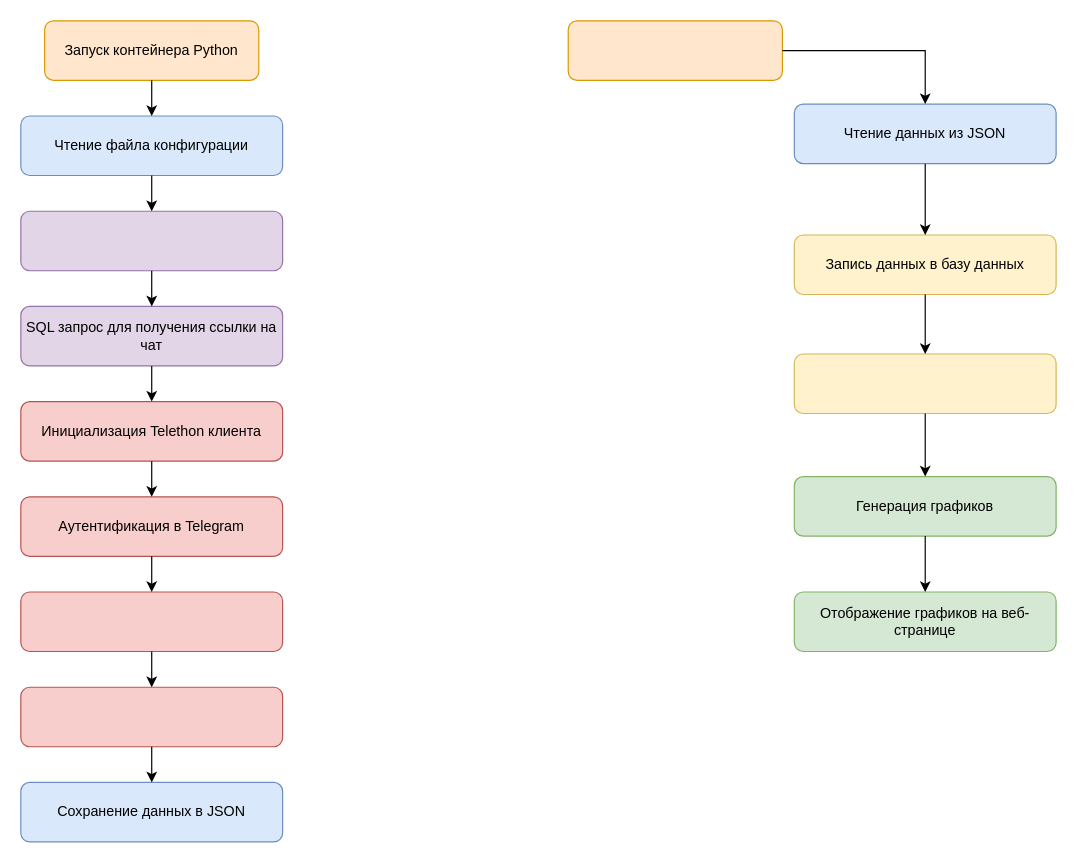
This 1077x863 diagram has some shape labels left out. The centre of each missing label's shape, as x and y in pixels:
"SQL запрос для аналитики" goes at (924,383).
"Запуск контейнера Go" goes at (674,50).
"Подключение к базе данных" goes at (151,240).
"Получение данных пользователей и сообщений" goes at (151,716).
"Получение информации о чате" goes at (151,621).
